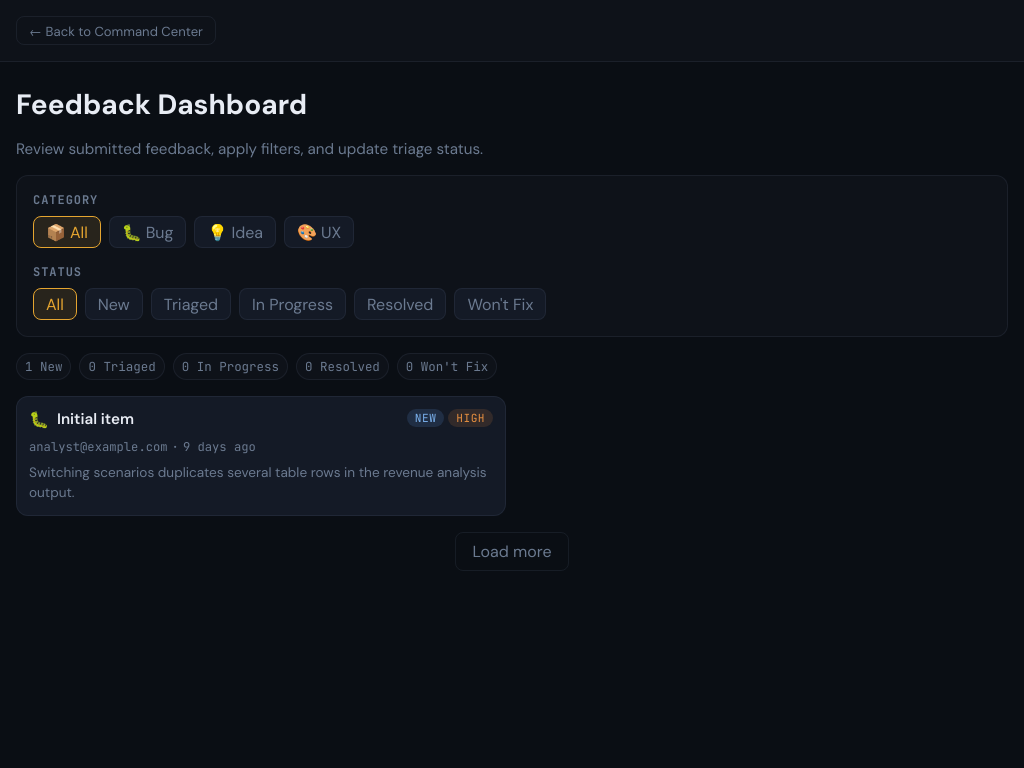
FeedbackDashboard › loads next page when load more is clicked
This screenshot has width=1024, height=768.
Expected: the heading "Initial item" is shown, [57,409,134,429]
Click the button "Load more" at (512, 551), box [456,532,568,571]
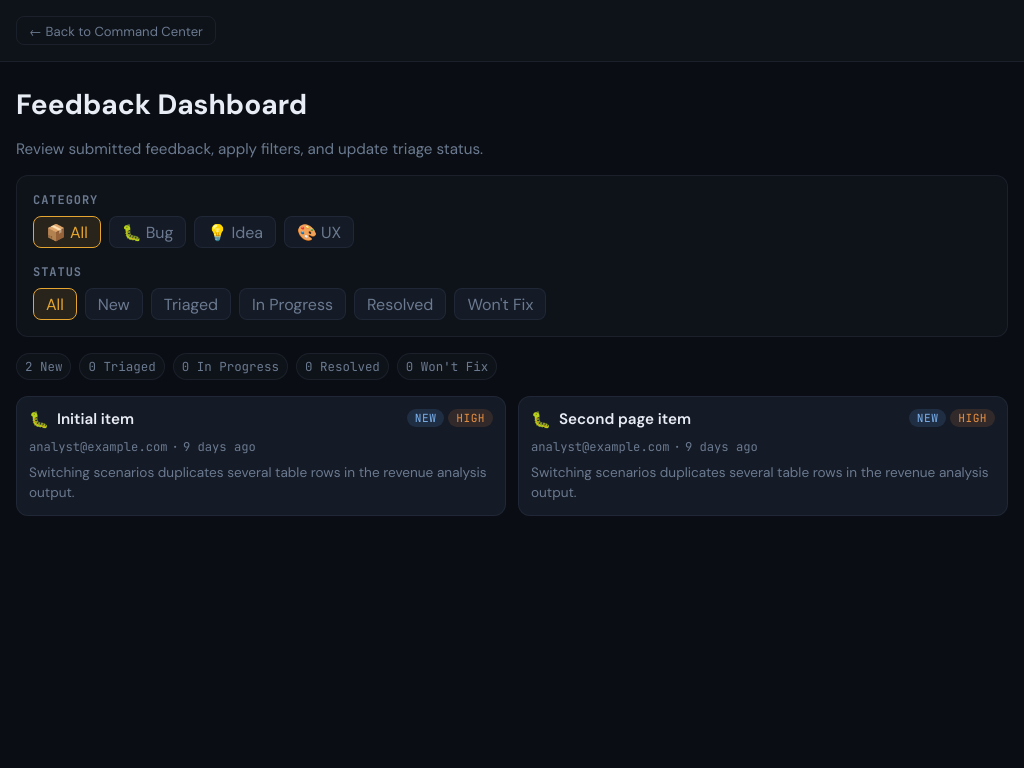
Result: the heading "Second page item" is shown at [559,409,691,429]
